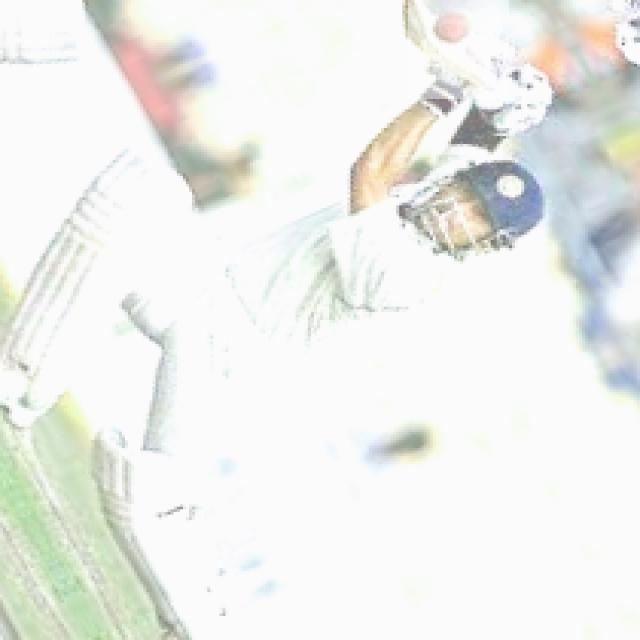bat: (403, 1, 516, 74)
toe: (404, 4, 423, 38)
